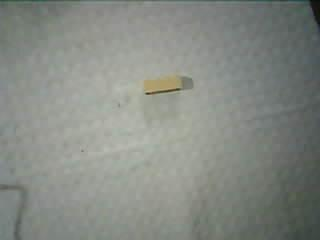lego: (141, 73, 183, 95)
